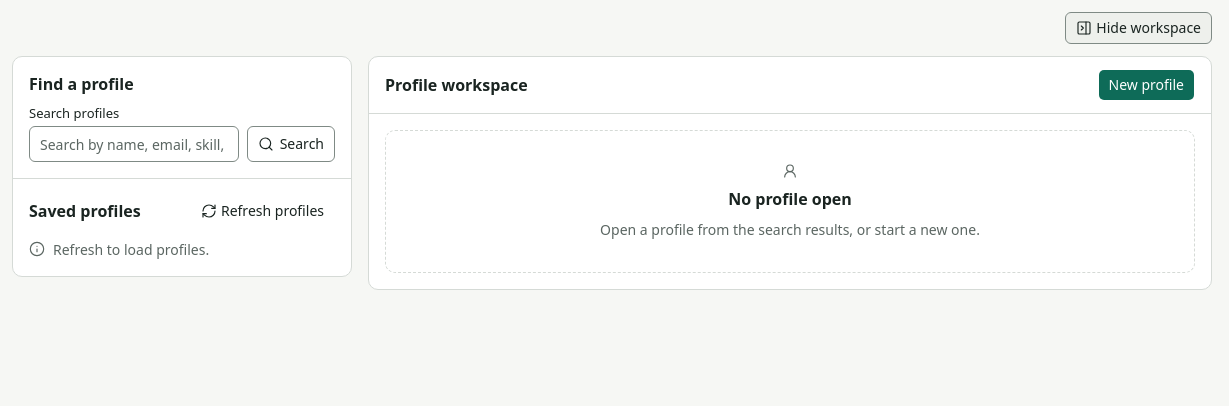
profile list › keeps the rows already shown when a refresh fails
Step 1. Click the button with test id "profileRefreshButton" → (262, 211), box [190, 195, 335, 227]
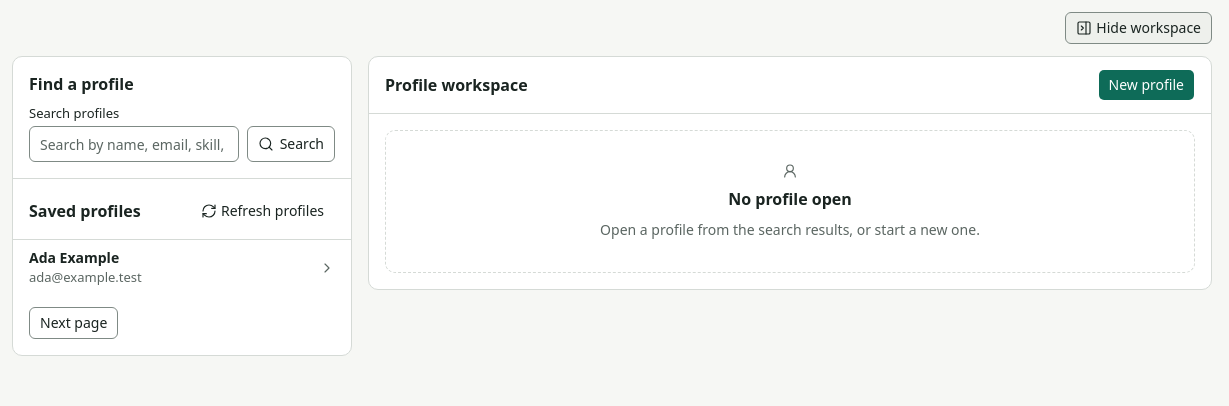
Expected: the text "Ada Example" is shown, [29, 248, 119, 267]
Step 2. Click the button with test id "profileRefreshButton" → (262, 211), box [190, 195, 335, 227]
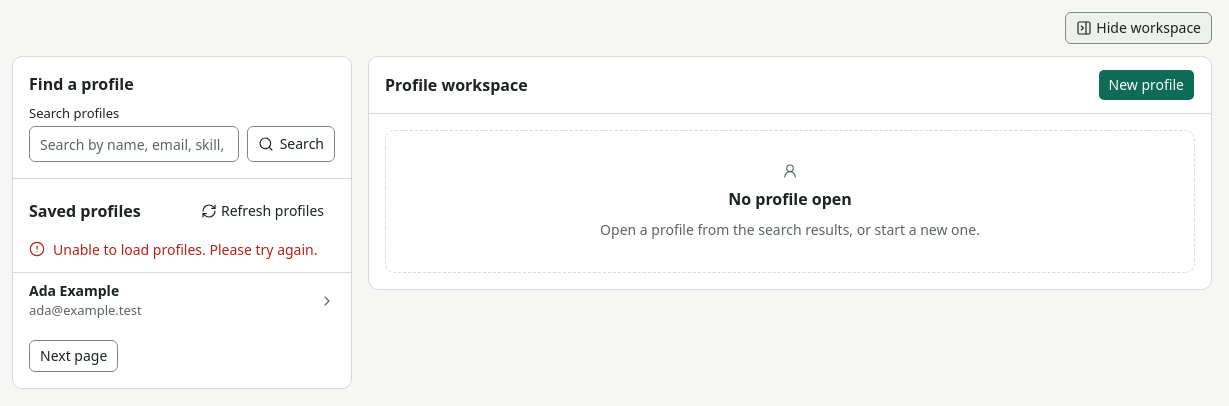
Expected: the text "Ada Example" is shown, [29, 281, 119, 300]
Expected: the text "Unable to load profiles. Please try again." is shown, [53, 239, 318, 260]
